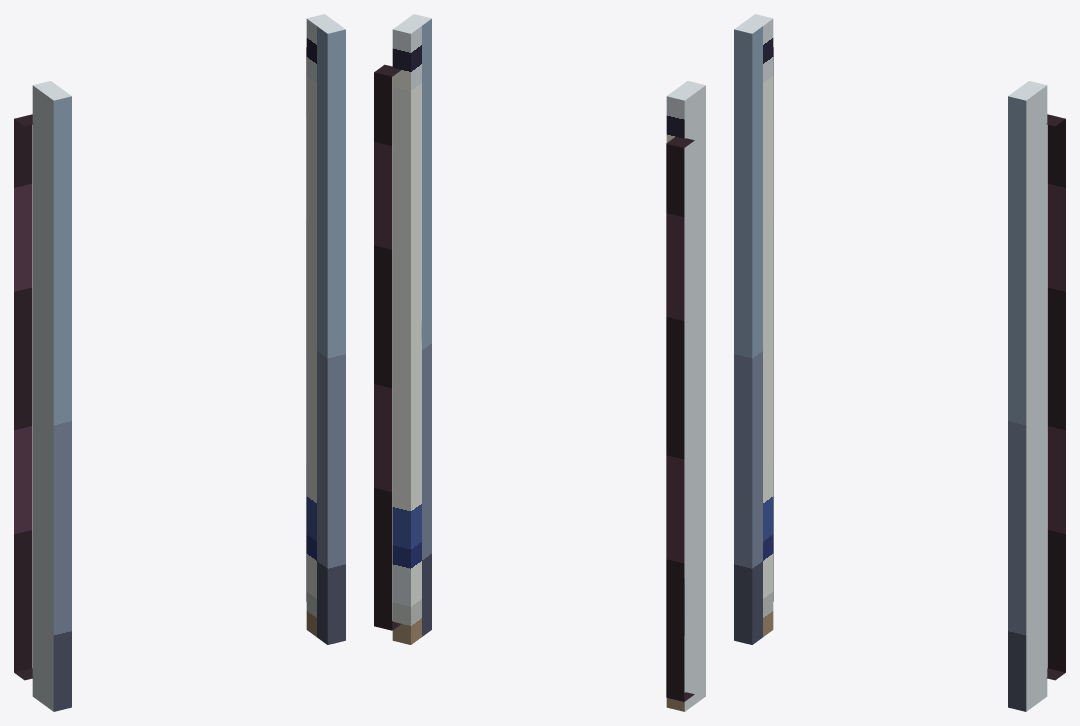
The model's file is df21_equip_door_frame.obj.
3 views of the same model, side by side, from view 1: azimuth 30°, elevation 25°; view 2: azimuth 150°, elevation 25°; view 3: azimuth 330°, elevation 25° (orthographic).
Visible parts, largest first — view 1: cube; view 2: cube; view 3: cube.
Boxes of the visible parts, x1=… form: cube: x1=14, y1=14, x2=345, y2=711; cube: x1=374, y1=14, x2=705, y2=711; cube: x1=734, y1=14, x2=1065, y2=711.
Bounding box in the file's own units: 1.06 × 2 × 0.1812.
